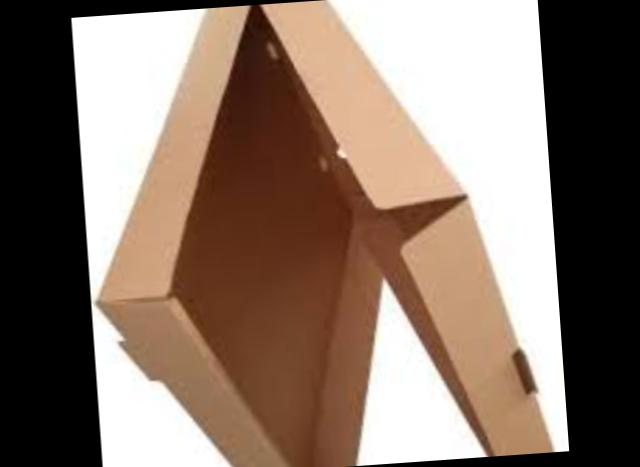cardboard paper: (97, 0, 562, 467)
